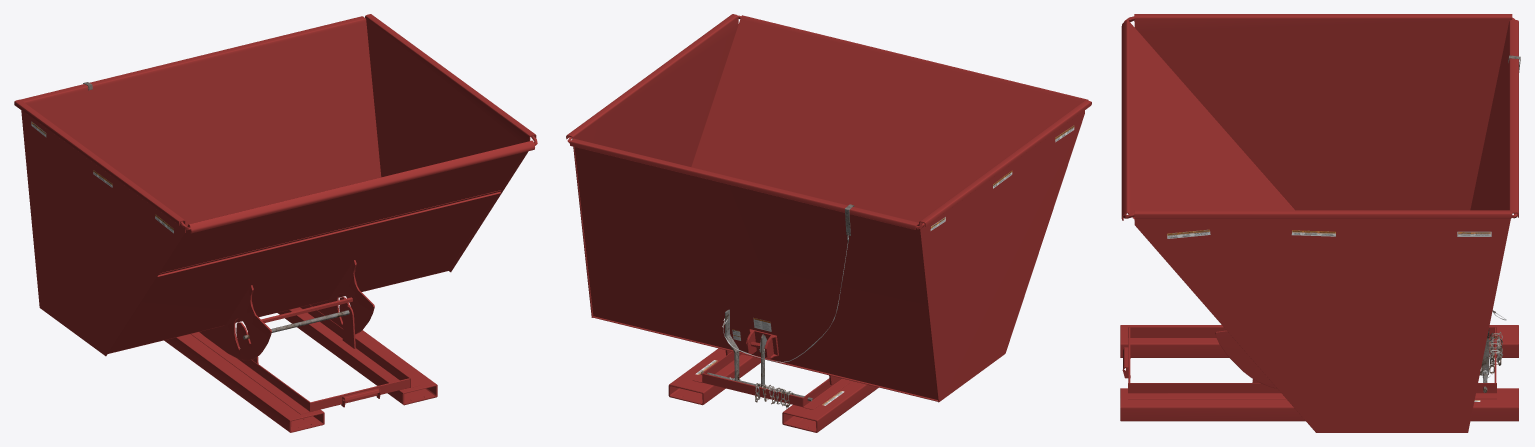
The model's file is dock_hopper.glb.
3 views of the same model, side by side, from view 1: azimuth 30°, elevation 25°; view 2: azimuth 150°, elevation 25°; view 3: azimuth 270°, elevation 25° (orthographic). The views are drawn at different scales.
Parts seen in each view (by area): view 1: dock_hopper; view 2: dock_hopper; view 3: dock_hopper.
Boxes of the visible parts, left/top/right/bottom form: dock_hopper: left=14, top=14, right=537, bottom=432; dock_hopper: left=566, top=14, right=1091, bottom=432; dock_hopper: left=1120, top=14, right=1520, bottom=432.
Size of the model in its own units: 2.08 by 1.3 by 1.76.
Materials: 6 (5 with a texture image).
